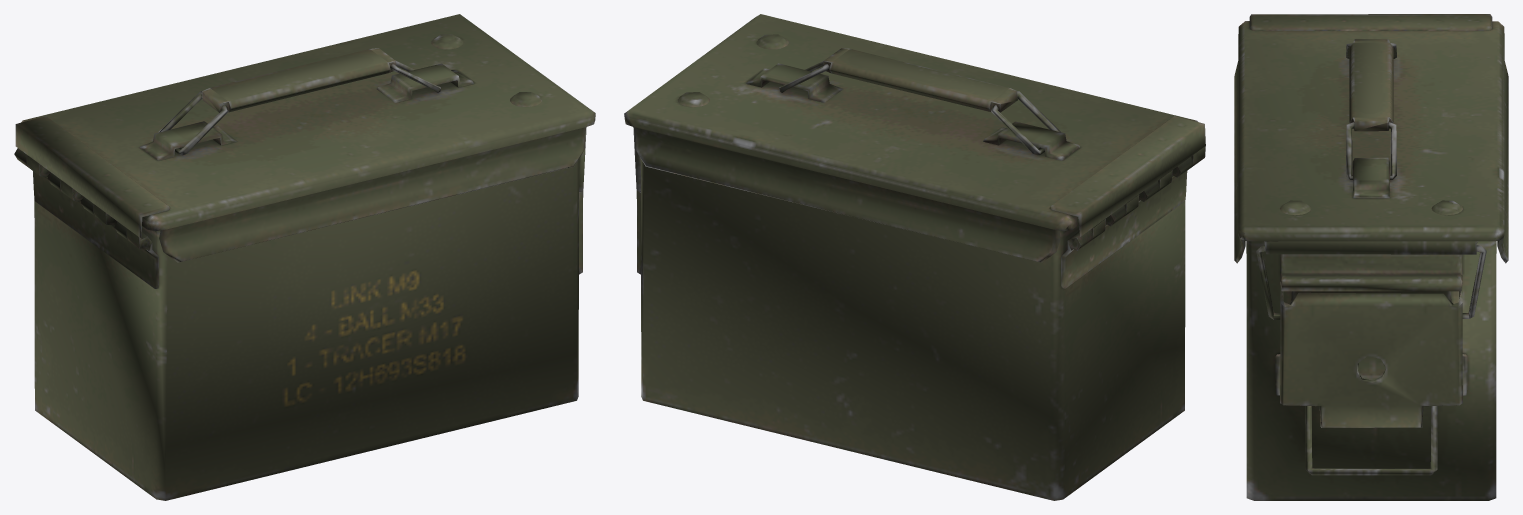
Rendered from AmmoCan.fbx.
3 renders of one model, left to right at view 1: azimuth 30°, elevation 25°; view 2: azimuth 150°, elevation 25°; view 3: azimuth 270°, elevation 25°, orthographic. The views are drawn at different scales.
Parts seen in each view (by area): view 1: AmmoCan; view 2: AmmoCan; view 3: AmmoCan.
Part boxes in pixels (box(x1,y1,x2,y2)): AmmoCan: box(14, 14, 595, 500); AmmoCan: box(624, 14, 1205, 500); AmmoCan: box(1234, 14, 1508, 500).
Bounding box in the file's own units: 0.1629 × 0.1111 × 0.087.
